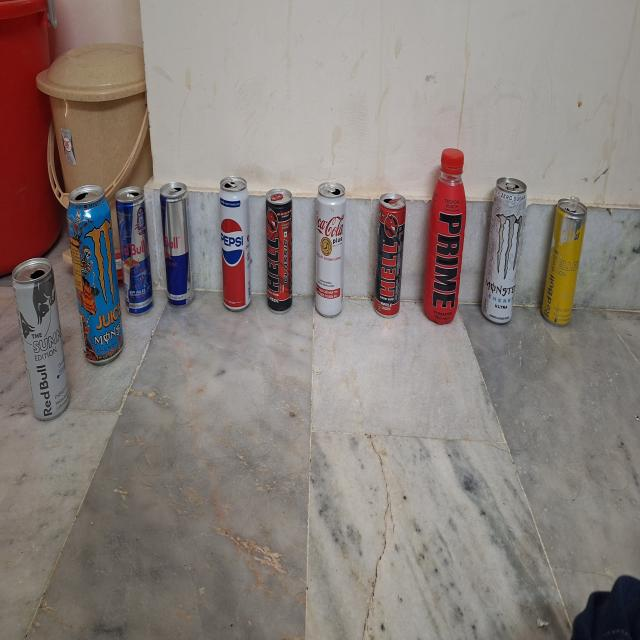Coca Cola Plus: (314, 181, 348, 315)
Hell Apple: (373, 192, 406, 316)
Hell Classic: (265, 183, 291, 312)
Monster Mango Loco: (66, 183, 124, 368)
Pepsi Retro: (218, 175, 255, 313)
Prime - Shitass: (421, 138, 467, 328)
Redbul: (160, 179, 198, 305)
Redbull DanceYourStyle: (118, 185, 156, 322)
Redbull Summer Edition: (12, 257, 72, 427)
Redbull Yellow Edition: (546, 194, 584, 331)
White Monster: (482, 168, 526, 326)
